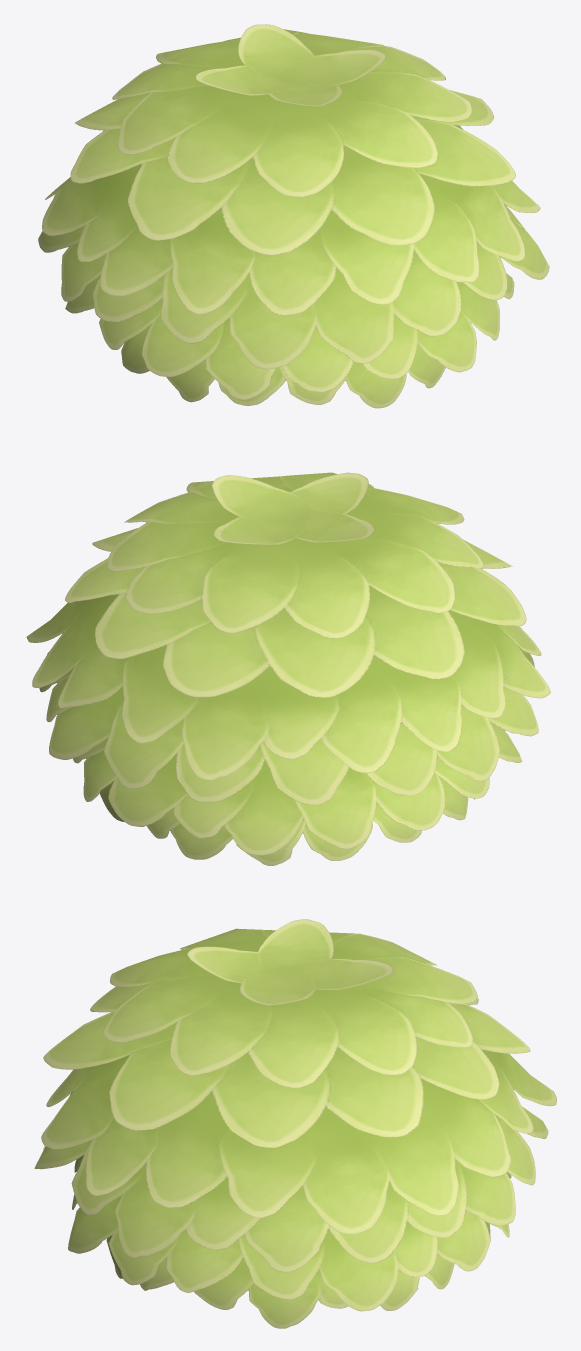
The model's file is Bush 2.fbx.
The picture shows the model from 3 angles, top to bottom: view 1: azimuth 30°, elevation 25°; view 2: azimuth 150°, elevation 25°; view 3: azimuth 270°, elevation 25°; orthographic projection. The views are drawn at different scales.
Parts seen in each view (by area): view 1: Circle; view 2: Circle; view 3: Circle.
Part boxes in pixels (x1,y1,x2,y2): Circle: (38, 24, 549, 408); Circle: (26, 472, 550, 865); Circle: (34, 919, 556, 1328).
Bounding box in the file's own units: 101 × 59.21 × 101.
